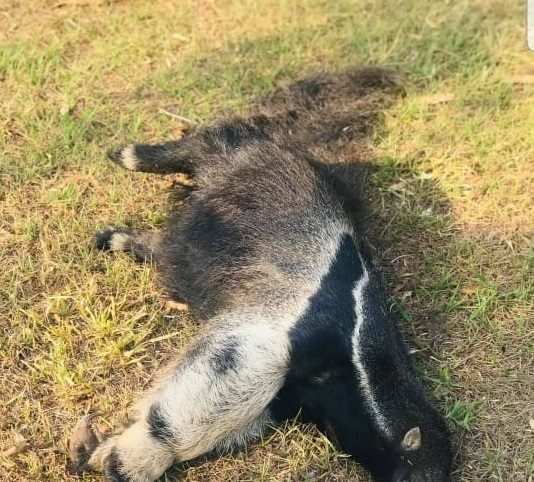TamanduaBandeira: (75, 61, 452, 478)
